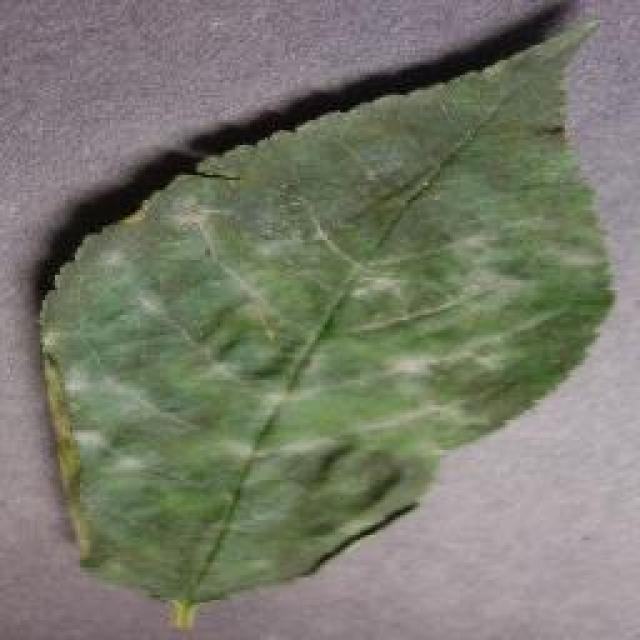Cherry___Powdery_mildew: (24, 7, 627, 640)
